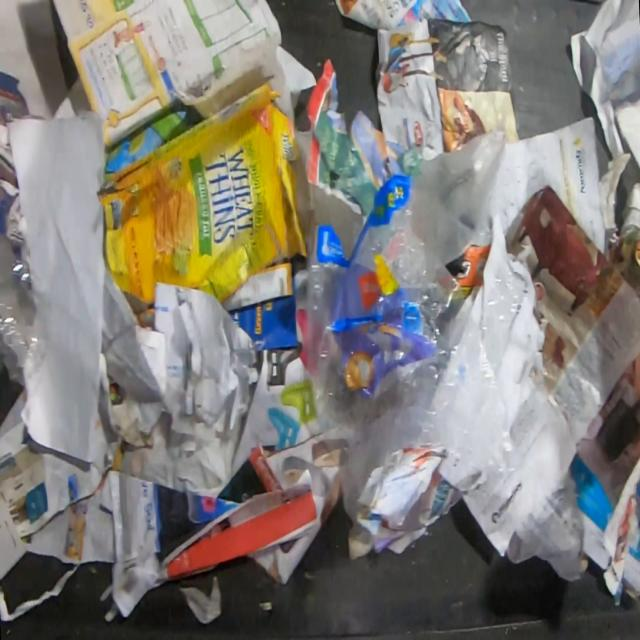cardboard: (96, 81, 311, 329), (168, 29, 296, 125), (307, 179, 364, 259), (228, 296, 298, 351), (454, 245, 491, 287)
soft_plastic: (303, 124, 530, 525), (0, 231, 52, 387), (368, 172, 410, 224)
